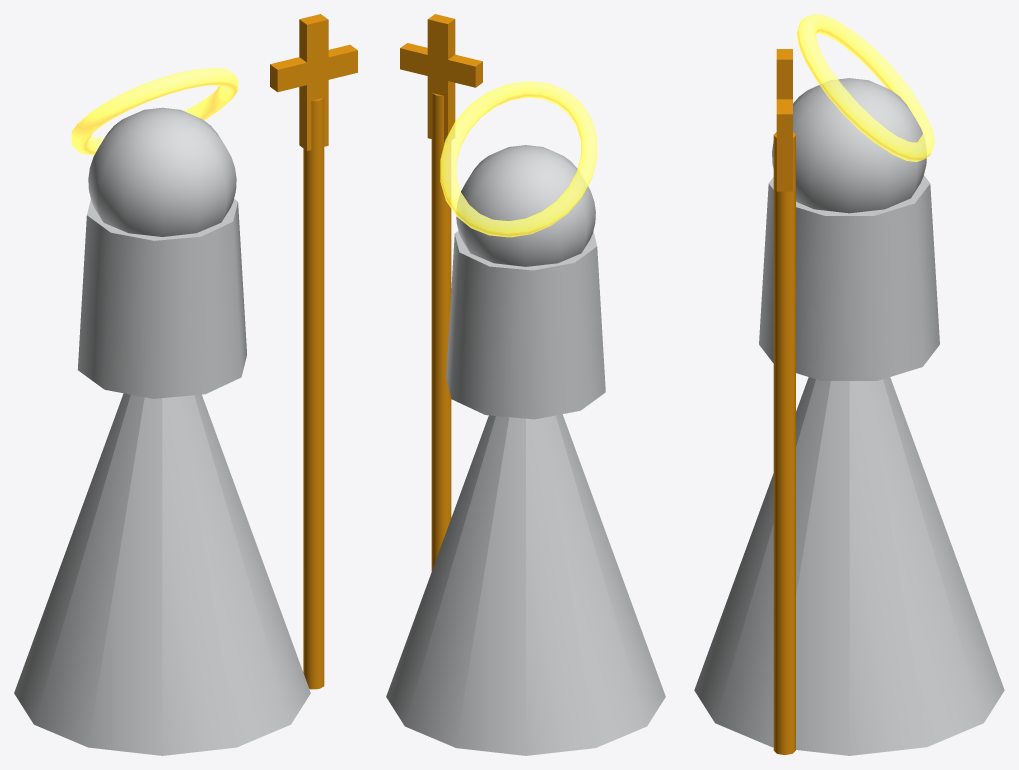
Rendered from npc_sebina_priestess.glb.
3 views of the same model, side by side, from view 1: azimuth 30°, elevation 25°; view 2: azimuth 150°, elevation 25°; view 3: azimuth 270°, elevation 25° (orthographic). The views are drawn at different scales.
Parts seen in each view (by area): view 1: NPC_SEBINA_THE_PRIEST; view 2: NPC_SEBINA_THE_PRIEST; view 3: NPC_SEBINA_THE_PRIEST.
Boxes of the visible parts, x1,y1,x2,y2 form: NPC_SEBINA_THE_PRIEST: [14, 14, 357, 755]; NPC_SEBINA_THE_PRIEST: [386, 14, 665, 755]; NPC_SEBINA_THE_PRIEST: [694, 14, 1004, 755].
Size of the model in its own units: 1.08 by 2.38 by 0.96.
